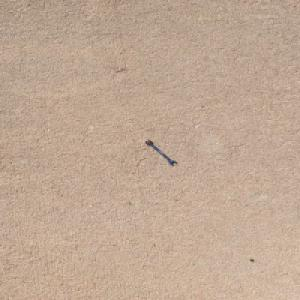Wrench: (144, 139, 178, 165)
